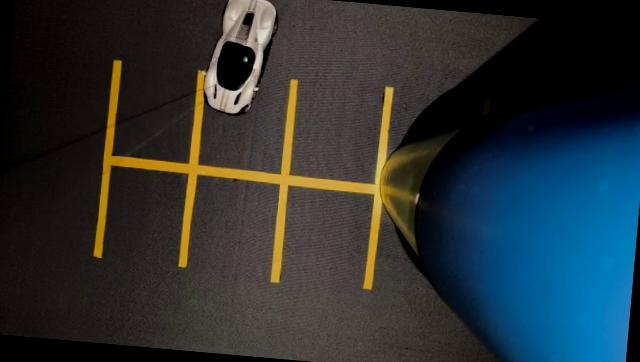toy_car: (184, 0, 304, 131)
